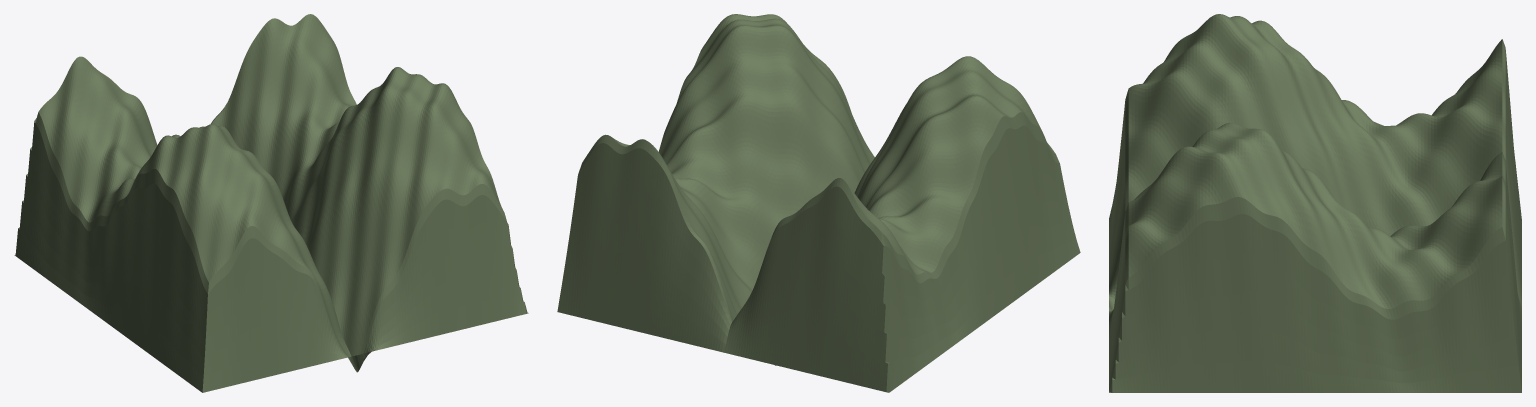
The model's file is amber_canyon_ravines.obj.
3 views of the same model, side by side, from view 1: azimuth 30°, elevation 25°; view 2: azimuth 150°, elevation 25°; view 3: azimuth 270°, elevation 25° (orthographic). The views are drawn at different scales.
Parts seen in each view (by area): view 1: amber_canyon_ravines; view 2: amber_canyon_ravines; view 3: amber_canyon_ravines.
Boxes of the visible parts, x1,y1,x2,y2 form: amber_canyon_ravines: [14, 14, 528, 392]; amber_canyon_ravines: [557, 14, 1080, 392]; amber_canyon_ravines: [1109, 14, 1521, 392].
Size of the model in its own units: 28 by 21.84 by 28.
